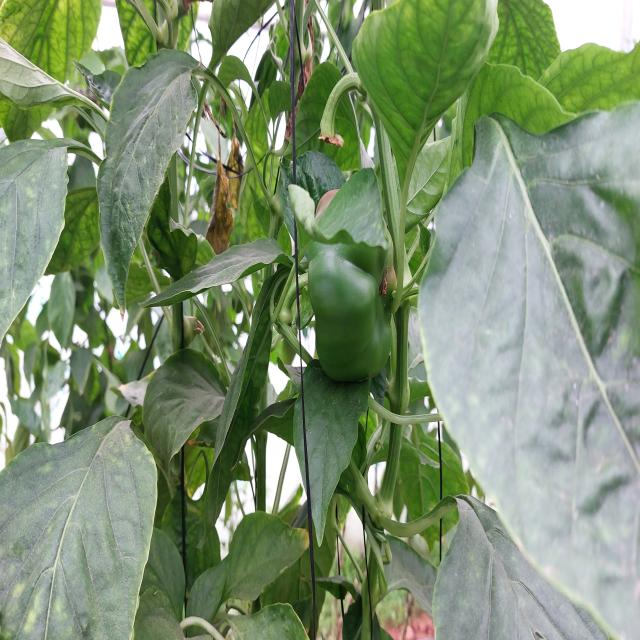Green--Not-ready-to-harvest: (309, 188, 396, 386)
